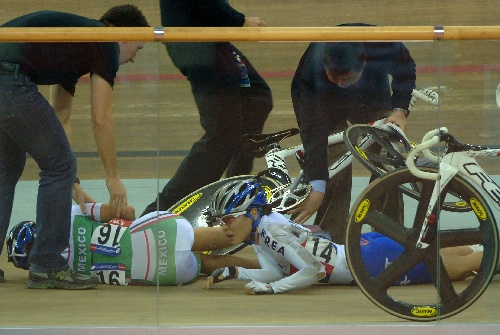fall: (12, 180, 268, 292)
